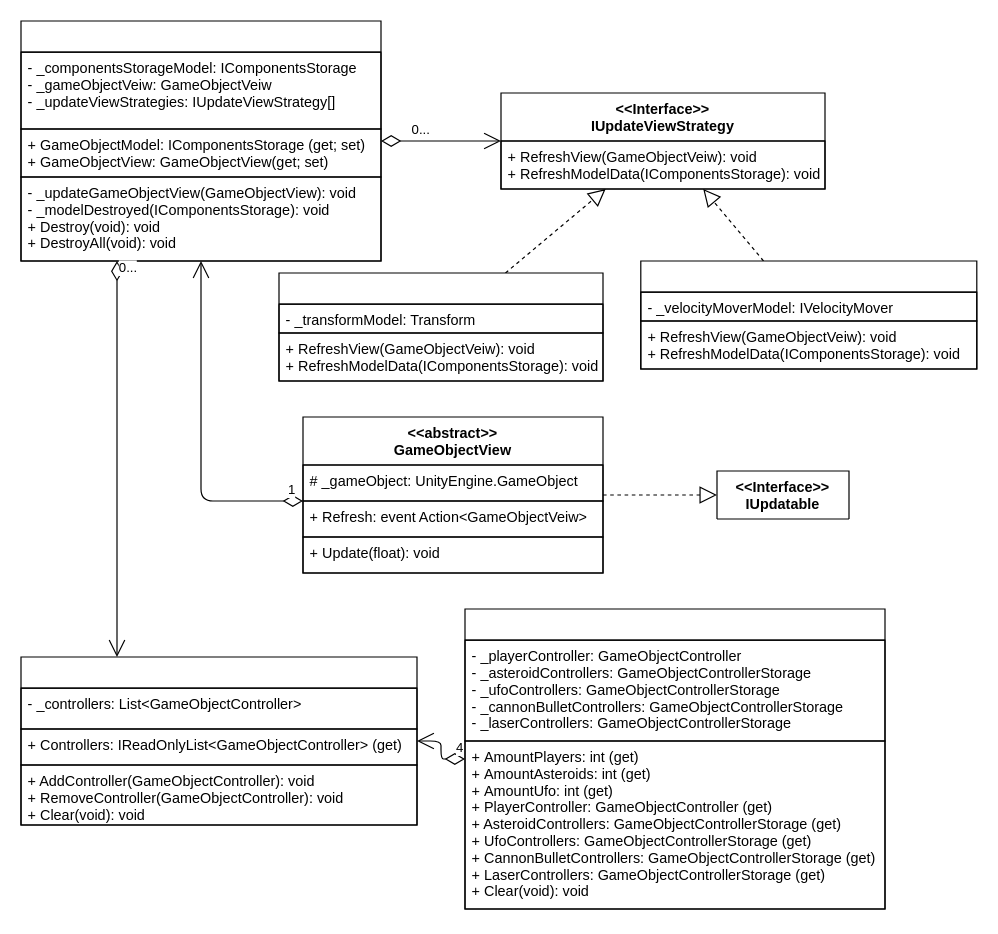
Some shapes in this 998 by 934 pixel diagram are drawn without their labels. The box of each missing label's shape, as (x1, y1, x2, y2) in pixels:
AsteroidsControllers: (464, 608, 885, 909)
GameObjectController: (20, 20, 381, 261)
GameObjectControllerStorage: (20, 656, 417, 825)
UpdateViewStrategyMutable: (640, 260, 977, 369)
UpdateViewStrategyTransform: (278, 272, 603, 381)
